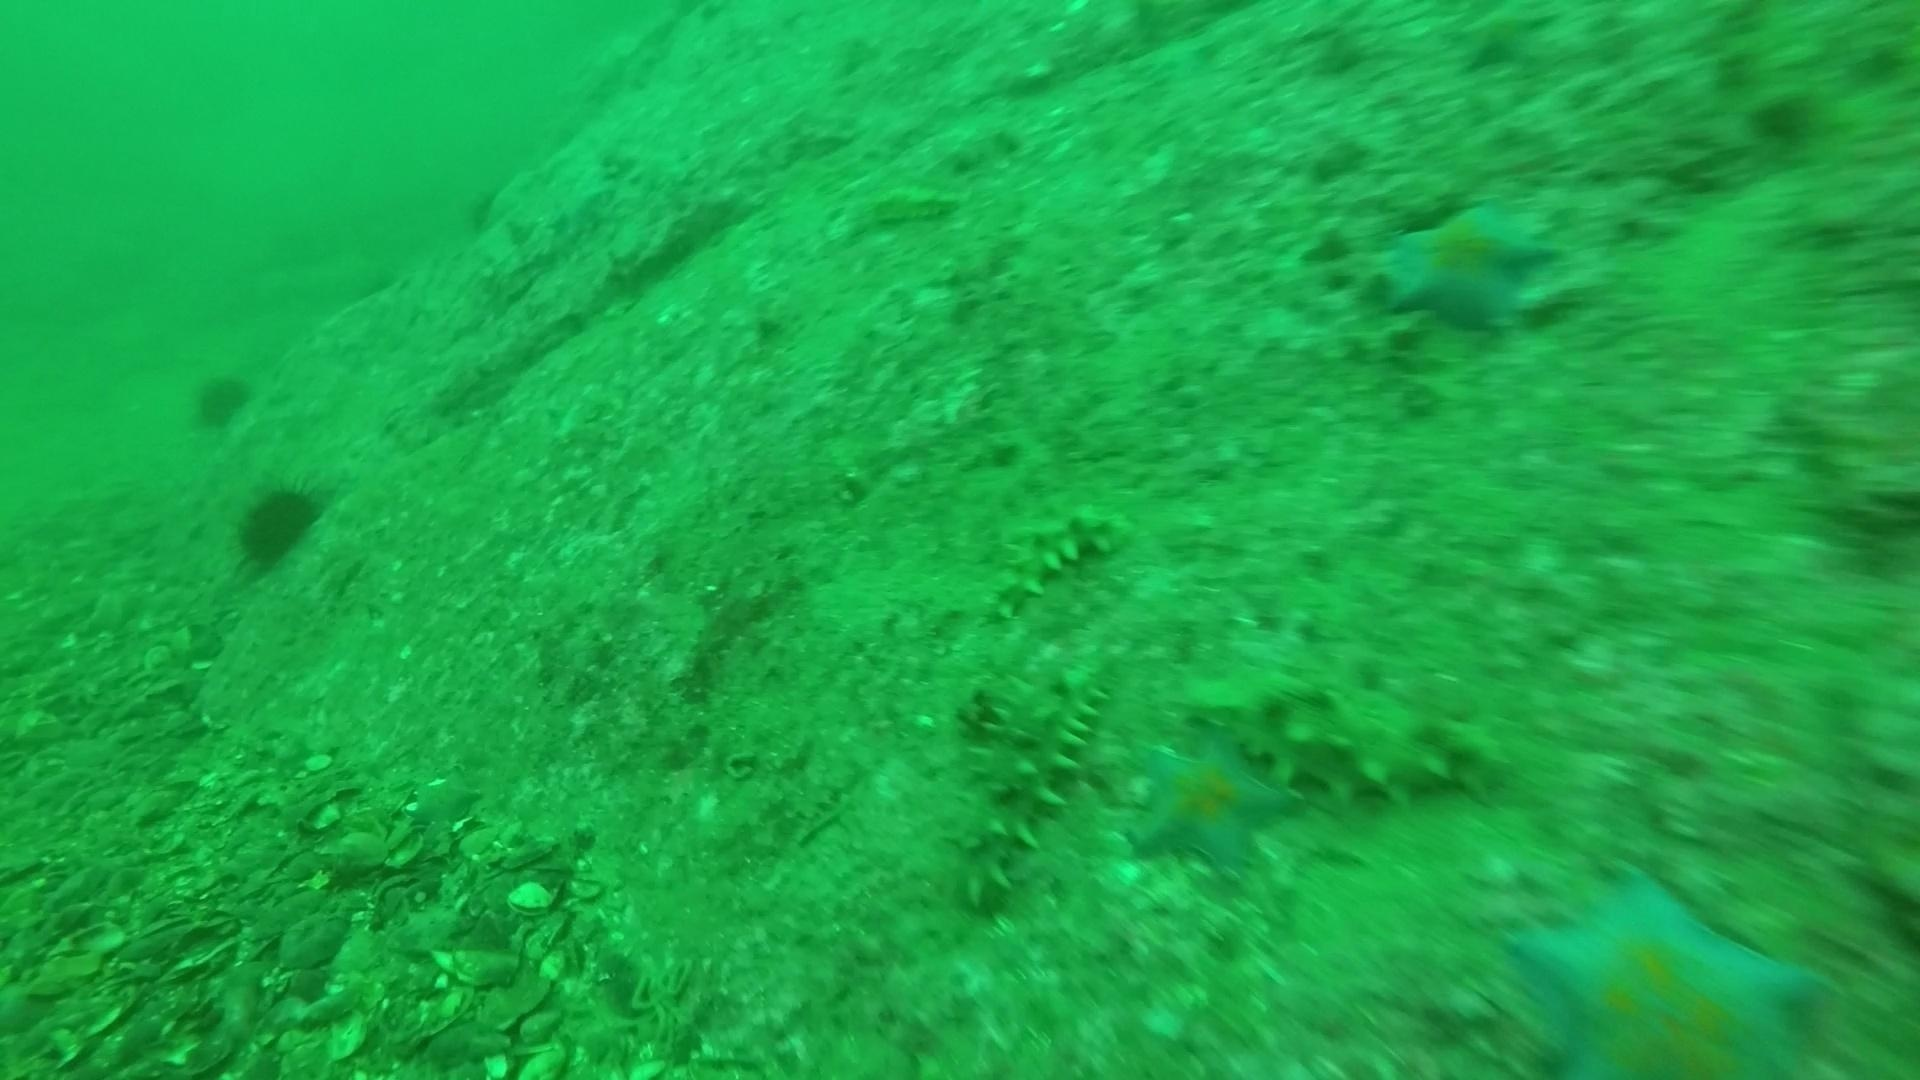echinus: (229, 476, 328, 575), (186, 364, 257, 433)
holothurian: (1176, 636, 1511, 815), (935, 650, 1116, 911), (975, 498, 1131, 628), (833, 174, 981, 247)
starfish: (1497, 861, 1830, 1076), (1370, 191, 1565, 338), (1121, 727, 1305, 880)
